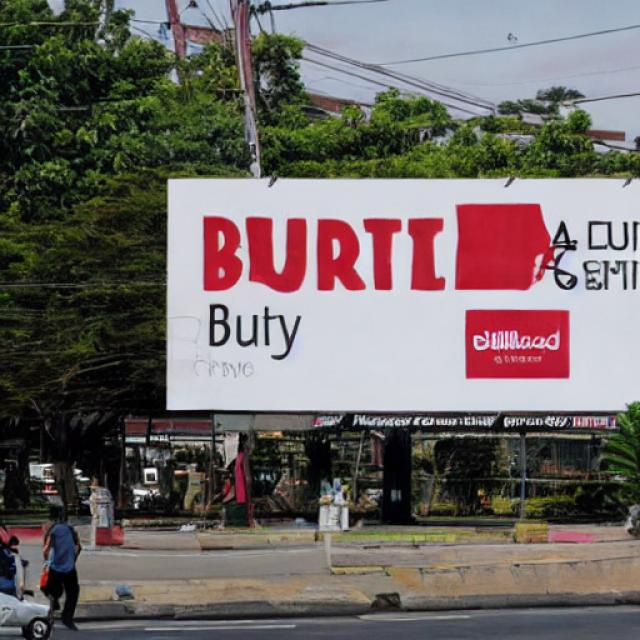Billboard: (161, 174, 640, 414)
